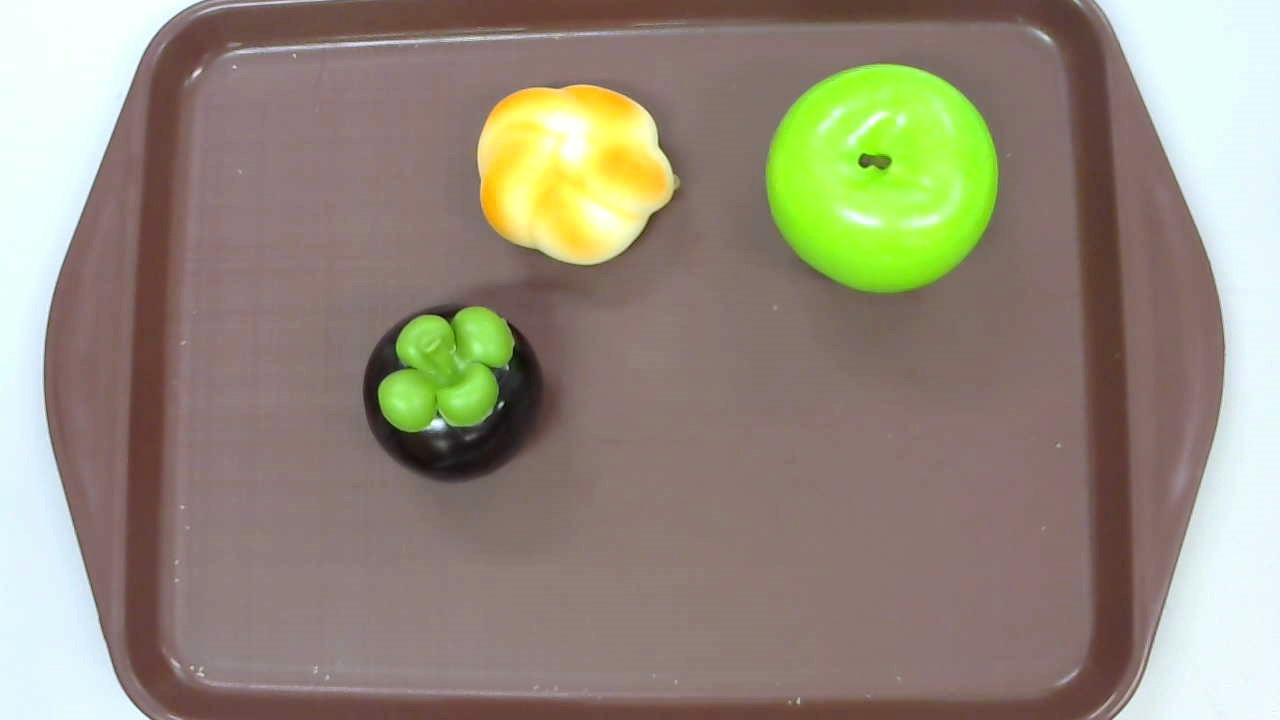green apple: (766, 63, 997, 297)
mangosteen: (361, 300, 544, 484)
twist bread: (477, 84, 681, 268)
